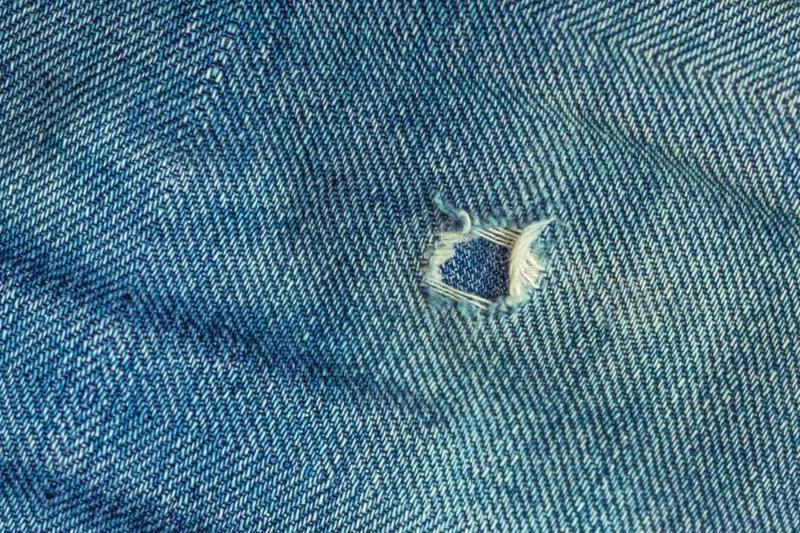hole: (416, 198, 548, 318)
